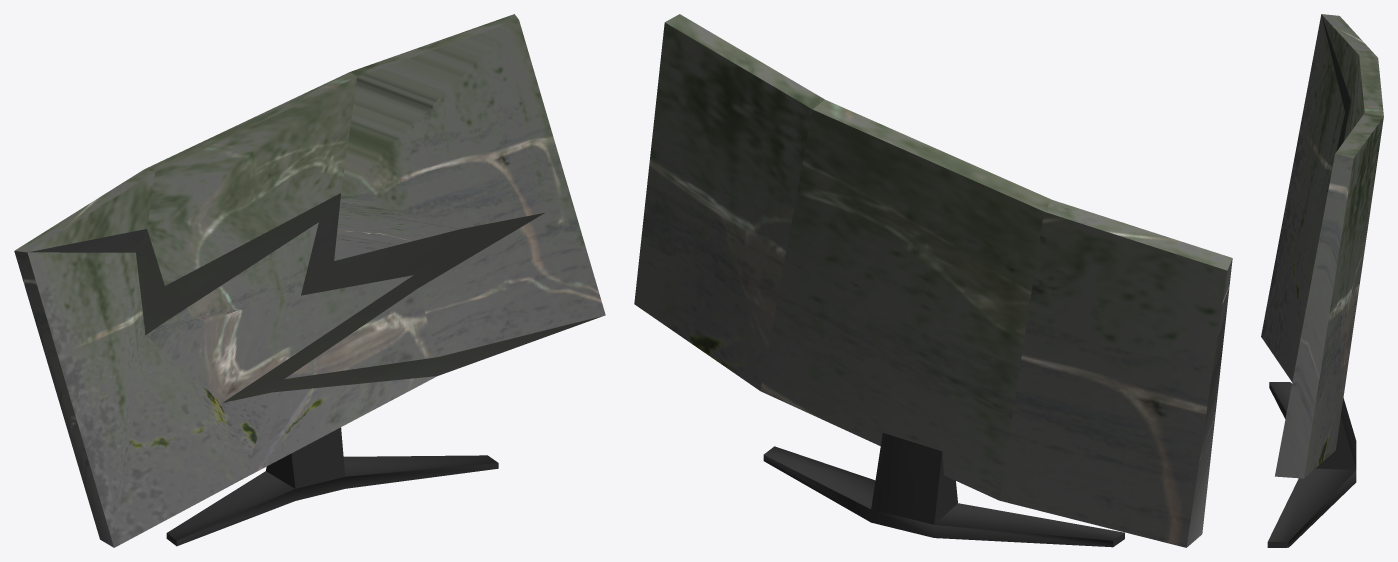
Rendered from monitor1.fbx.
3 views of the same model, side by side, from view 1: azimuth 30°, elevation 25°; view 2: azimuth 150°, elevation 25°; view 3: azimuth 270°, elevation 25° (orthographic). The views are drawn at different scales.
Parts seen in each view (by area): view 1: monitor1; view 2: monitor1; view 3: monitor1.
Boxes of the visible parts, x1,y1,x2,y2 form: monitor1: [14, 14, 605, 547]; monitor1: [634, 14, 1232, 547]; monitor1: [1261, 14, 1383, 547].
Bounding box in the file's own units: 0.6261 × 0.4401 × 0.1165.
